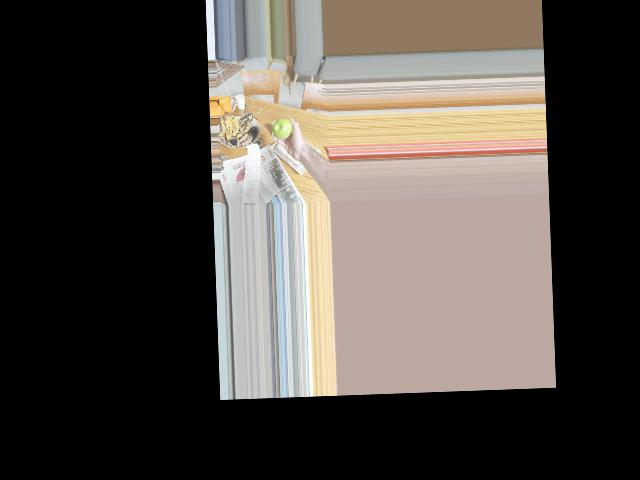apple: (273, 117, 293, 140)
